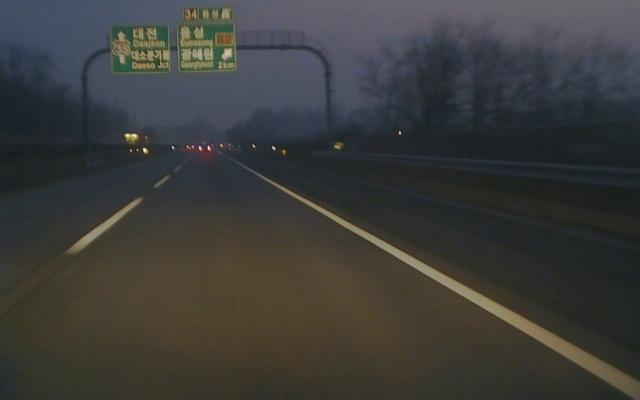lane: (232, 159, 640, 400), (62, 165, 183, 258)
